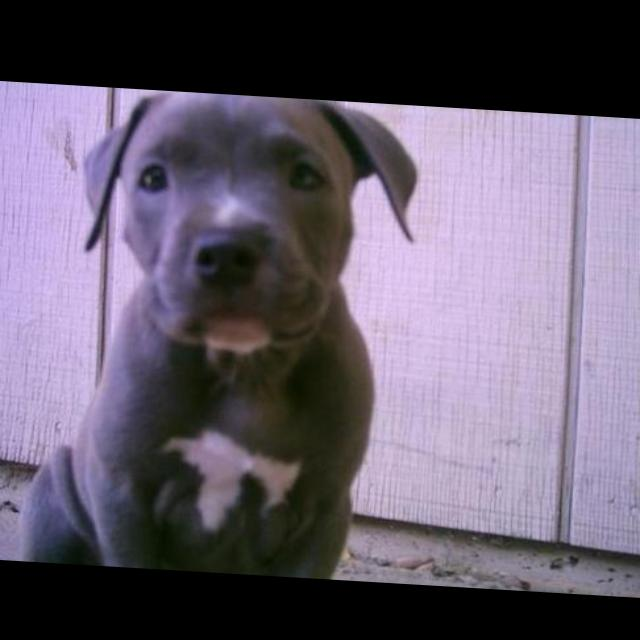amstaff: (16, 82, 421, 580)
